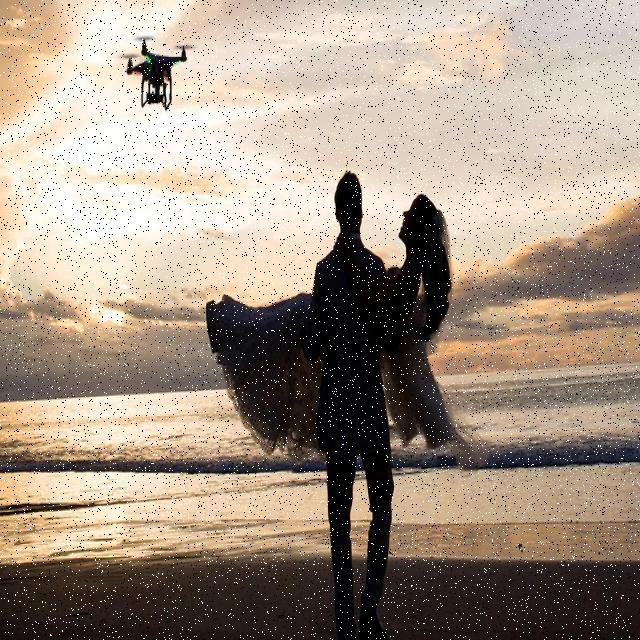UAV: (124, 36, 190, 115)
